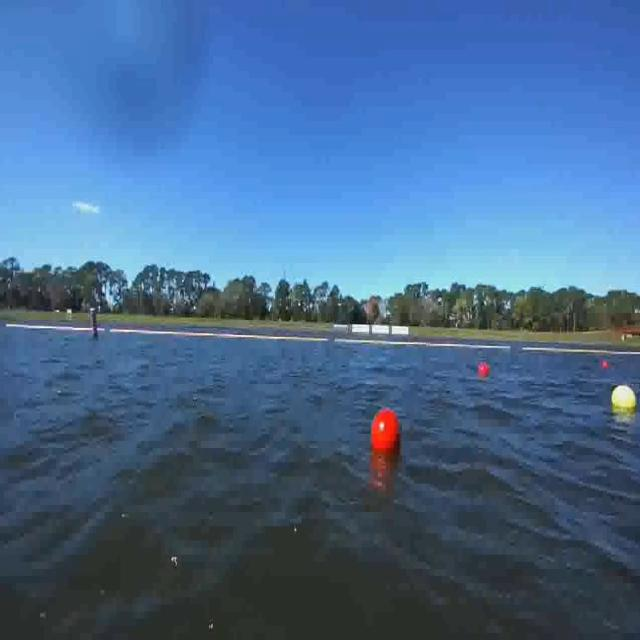red-buoy: (372, 409, 402, 456), (479, 362, 491, 378)
yellow-buoy: (612, 384, 638, 412)
